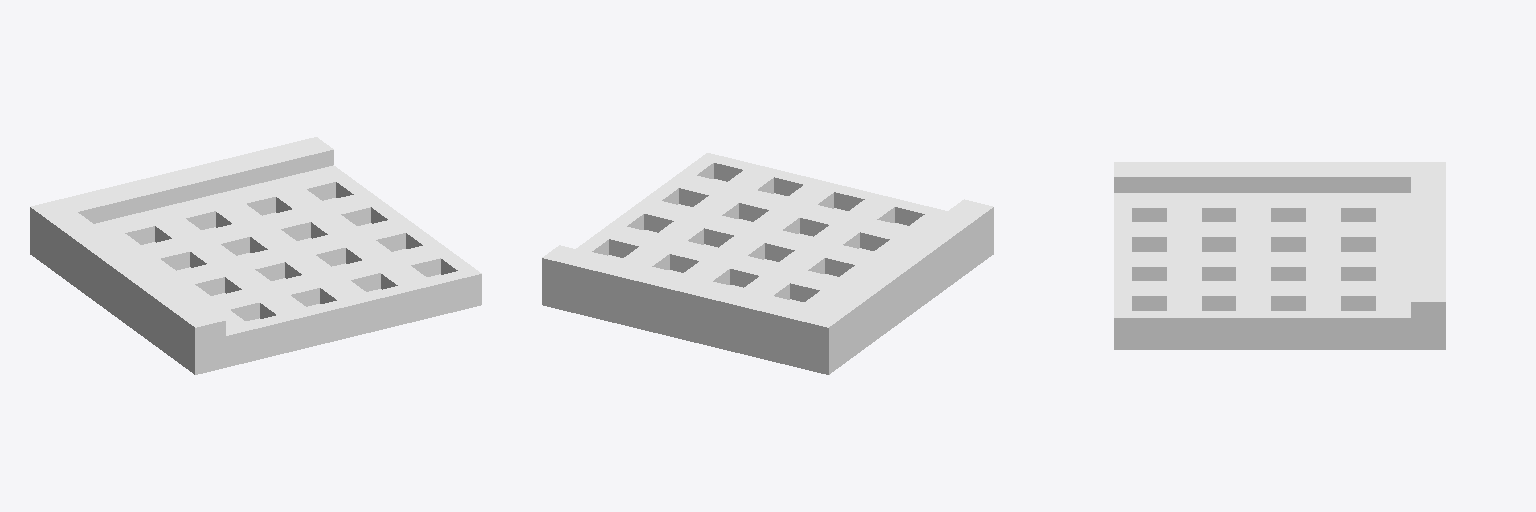
Rendered from cubierta_3.obj.
3 renders of one model, left to right at view 1: azimuth 30°, elevation 25°; view 2: azimuth 150°, elevation 25°; view 3: azimuth 270°, elevation 25°, orthographic.
Size of the model in its own units: 19 by 3 by 19.